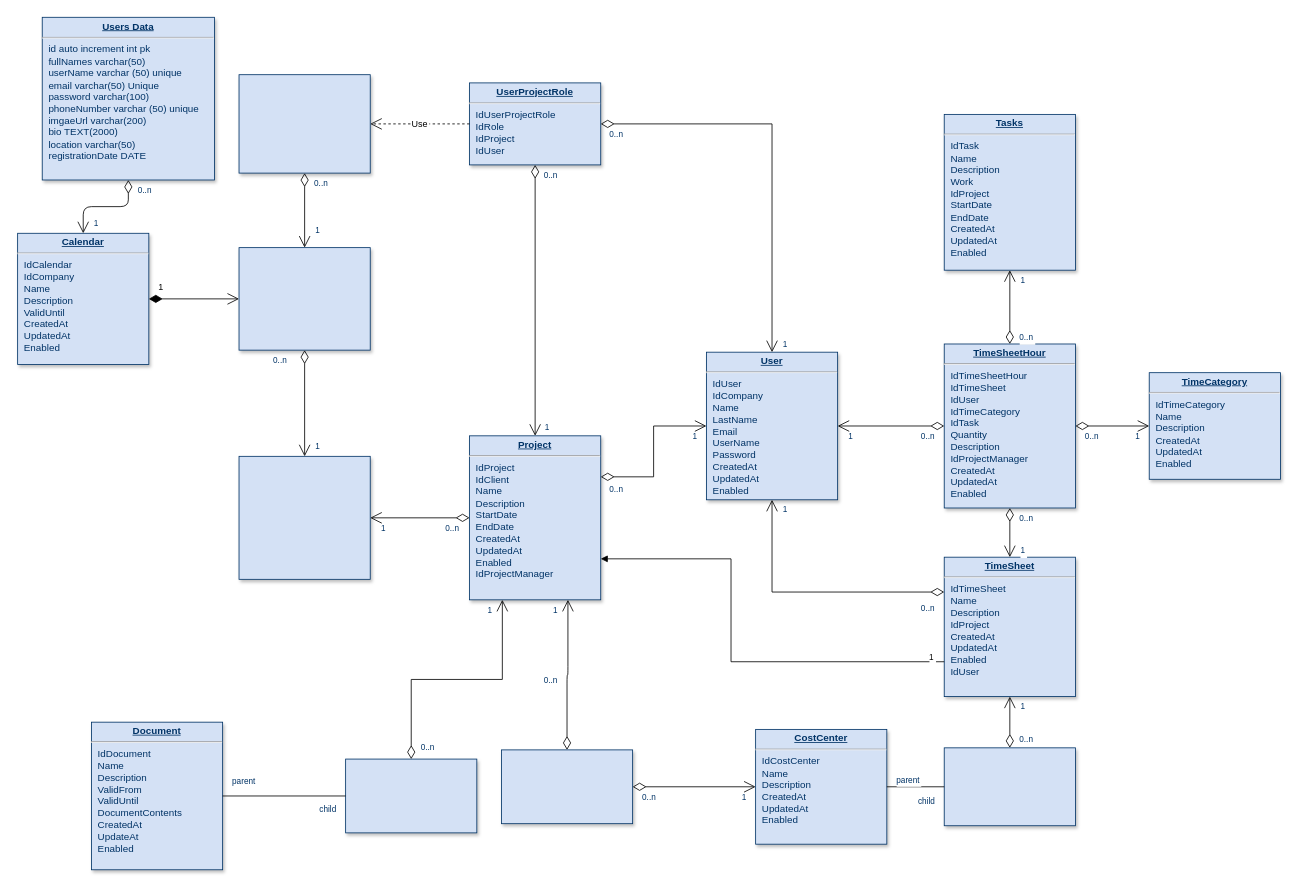
The diagram is 1300 pixels wide and 891 high, and some of its shapes have lost their labels. Here are the shapes that lost their labels. From the top down, the centre of each, then its label:
pixel 305 125: Role IdCompany Name Description CreatedAt UpdatedAt Enabled
pixel 305 300: Company Name Description CreatedAt UpdatedAt Enabled
pixel 305 518: Client IdClient IdCompany Name Description CreatedAt UpdatedAt Enabled
pixel 412 797: ProjectDocument IdProjectDocument IdProject IdDocument
pixel 567 787: ProjectCostCenter IdProjectCostCenter IdProject IdCostCenter
pixel 1010 787: TimeSheetCostCenter IdTimeSheetCostCenter IdTimeSheet IdCostCenter
